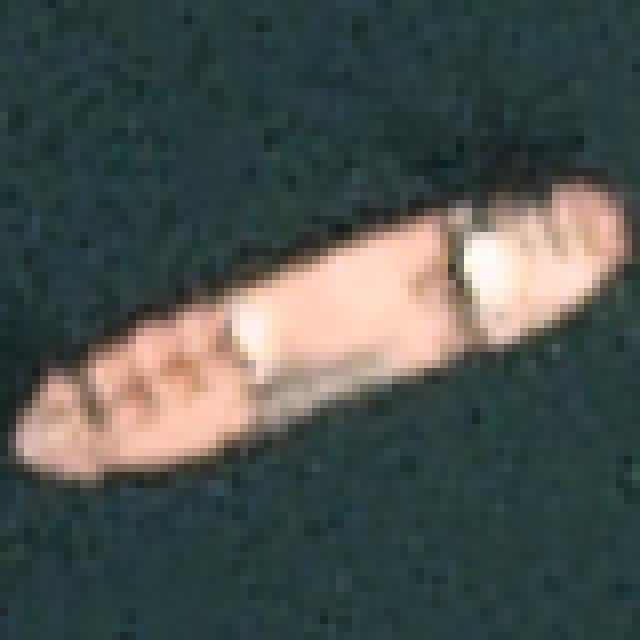ship: (0, 144, 640, 519)
